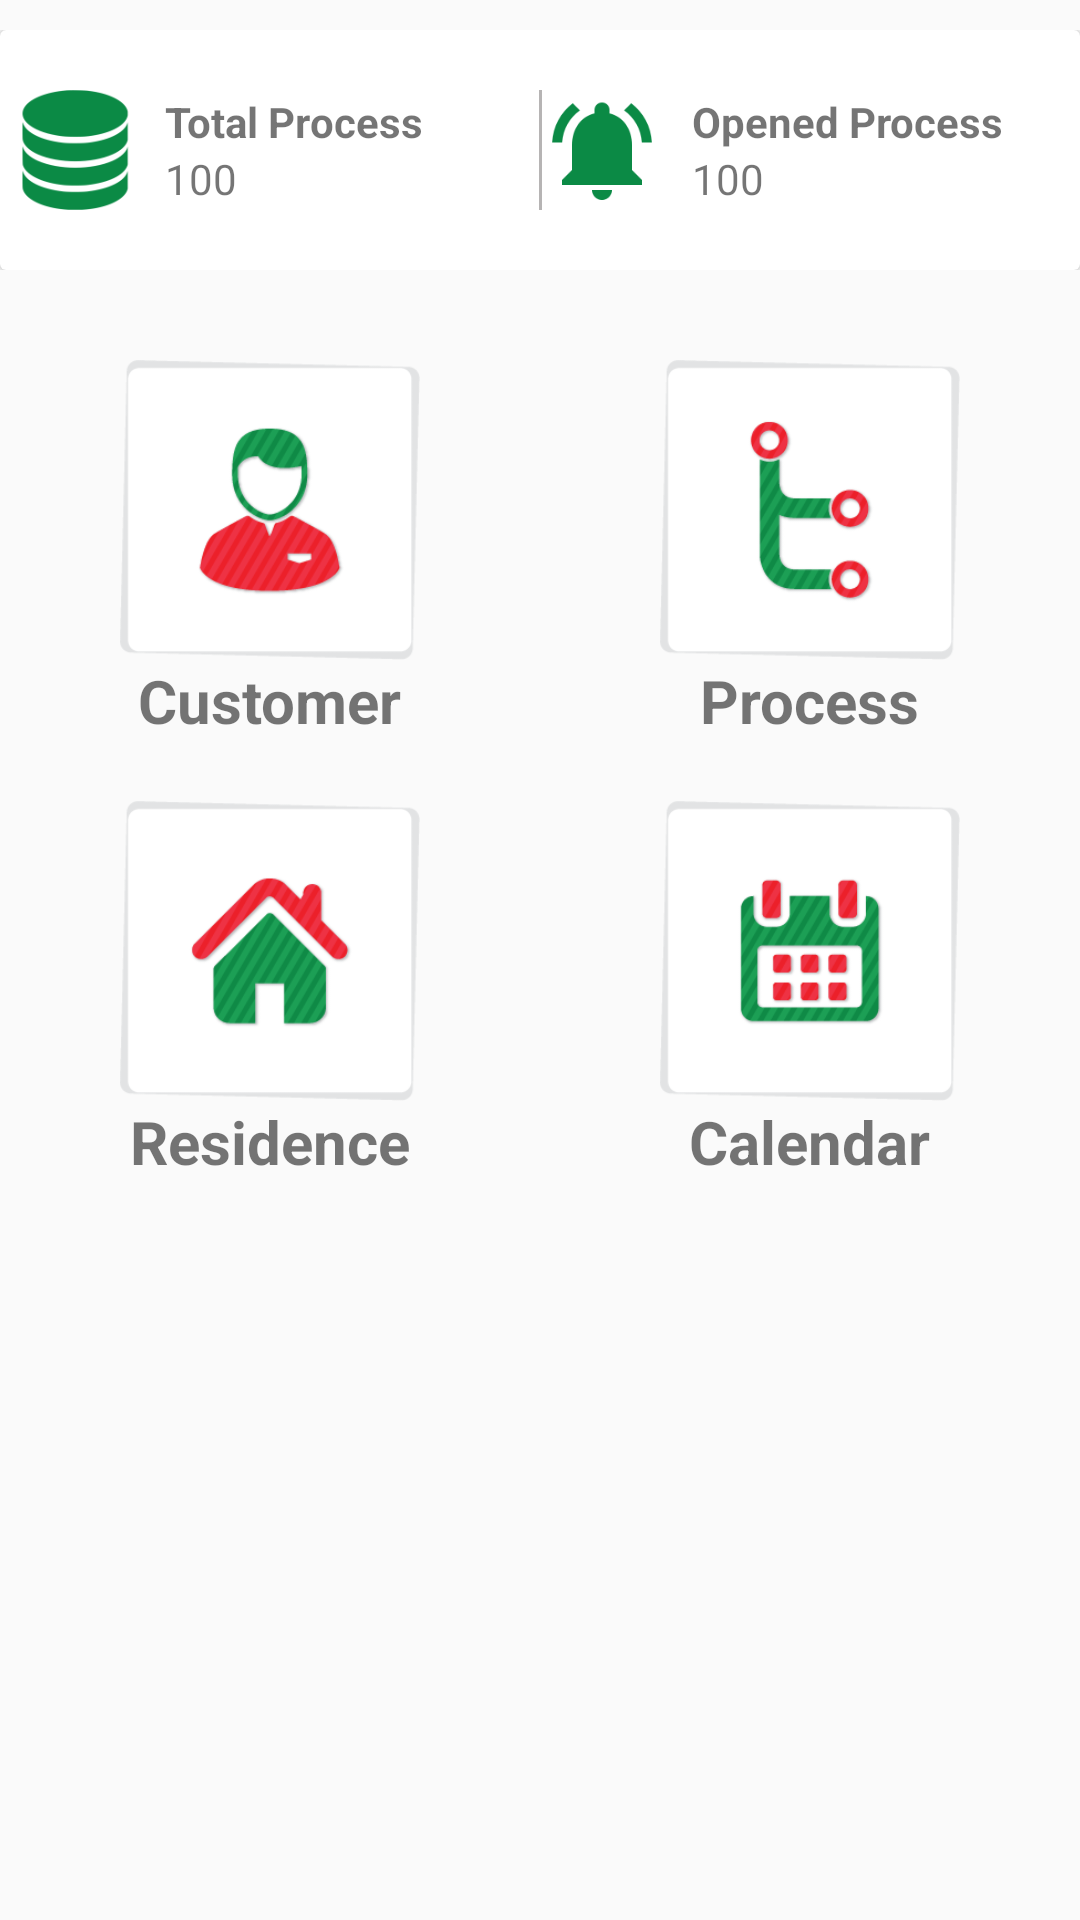

Icon bounding boxes for this 1080px x 1920px phone screenshot, format (x1, y1, x2, y2):
calender: (740, 879, 881, 1023)
notifications: (552, 102, 652, 200)
profile dash: (199, 428, 341, 593)
